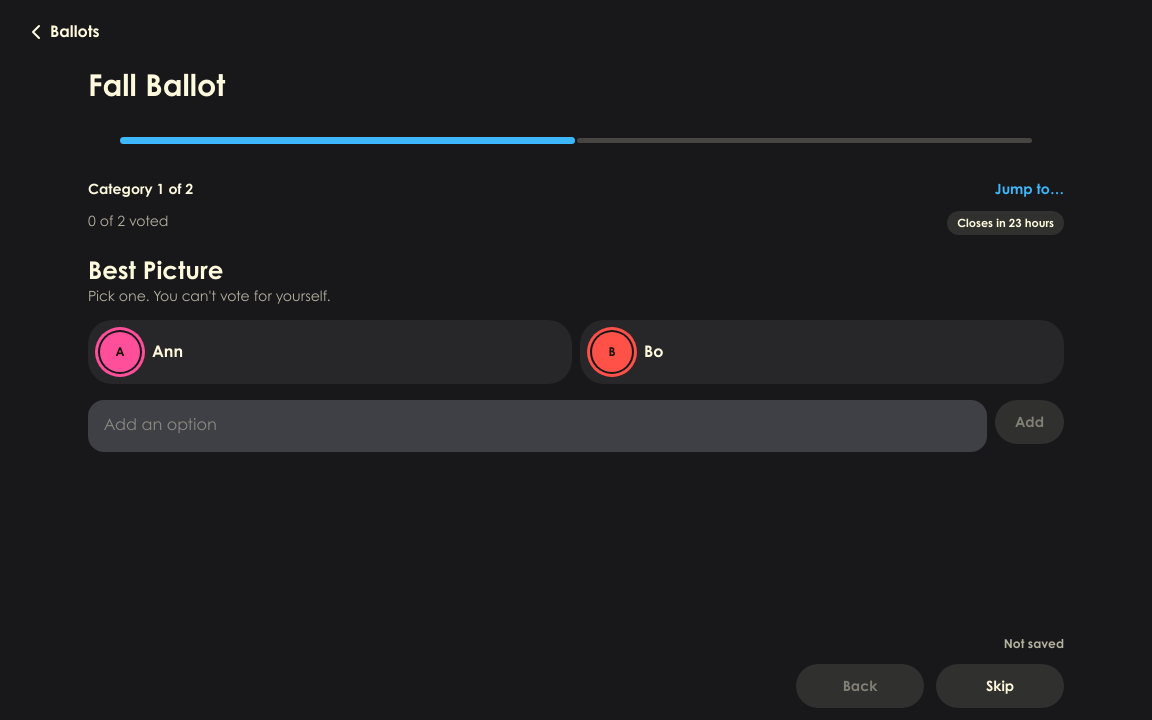
VotePage save failures › an add_nominee server rule shows its own message with no retry
Expected: the element "Best Picture" is shown, [88,255,1064,452]
In the field labelled "Add an option": (537, 426) [88,400,987,452], type "Zed"
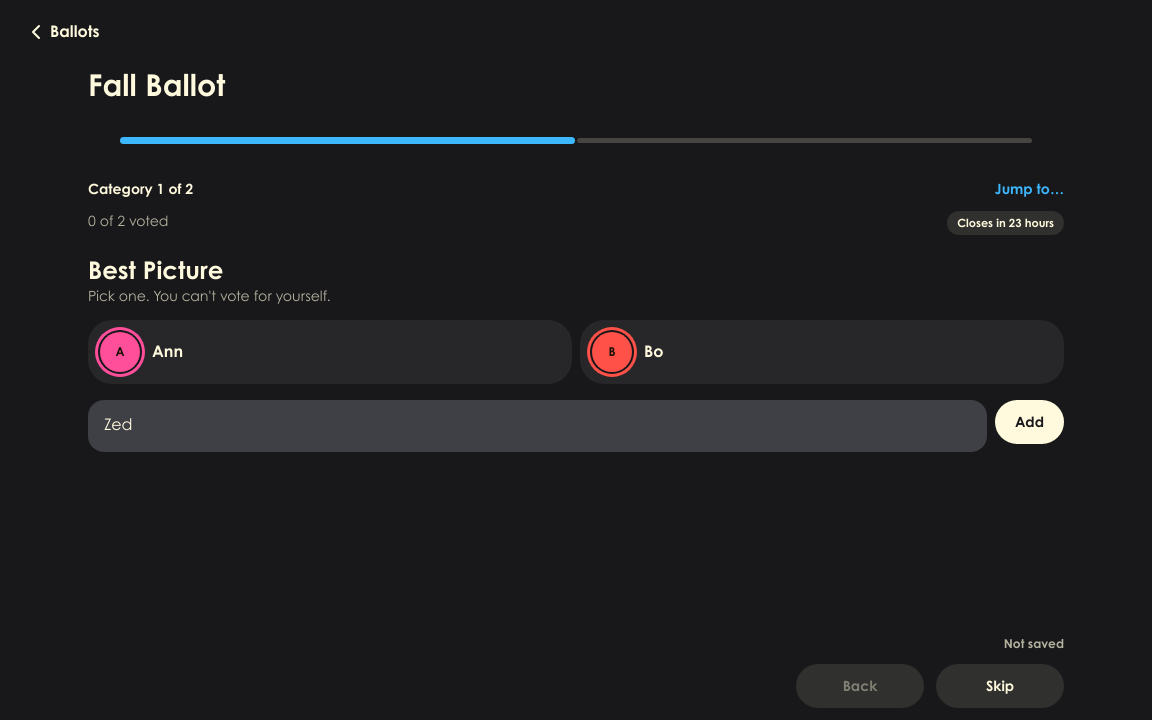
Submit the form named "add an option", box [88,400,1064,452]
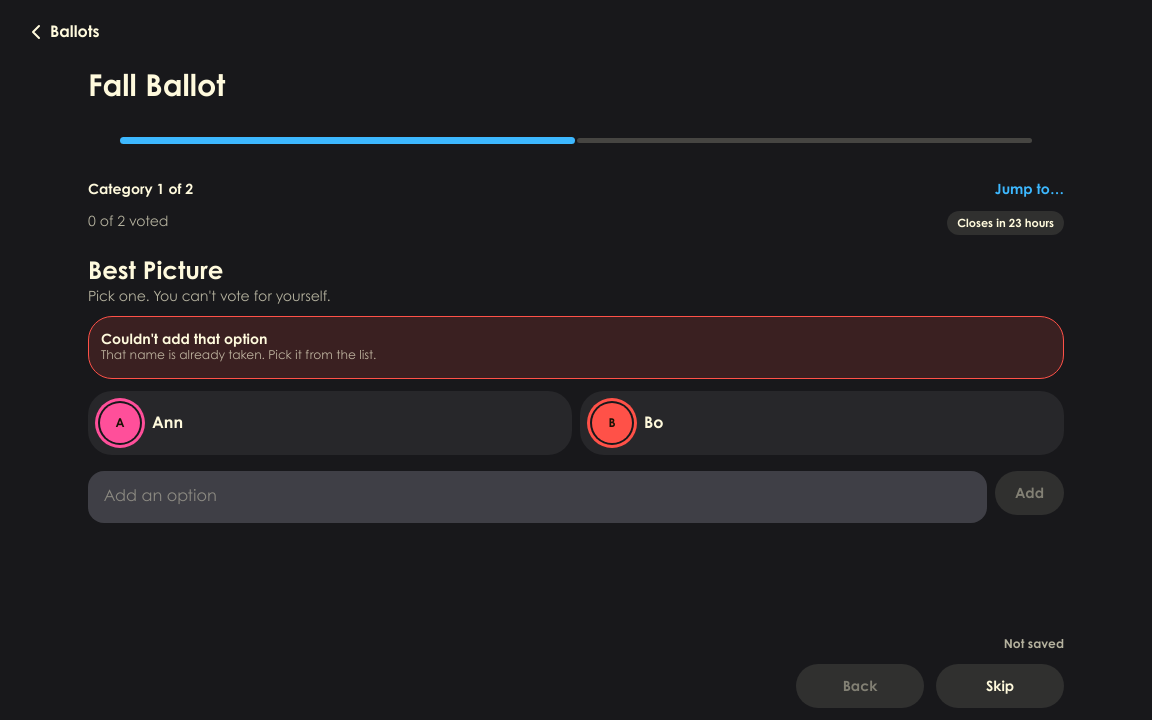
Expected: the message shows "already taken", [101,350,376,362]
